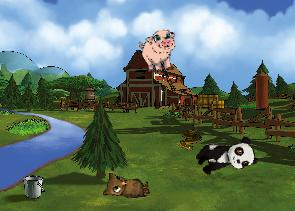owl: (101, 168, 150, 200)
panda: (193, 134, 258, 179)
pig: (137, 28, 181, 75)
